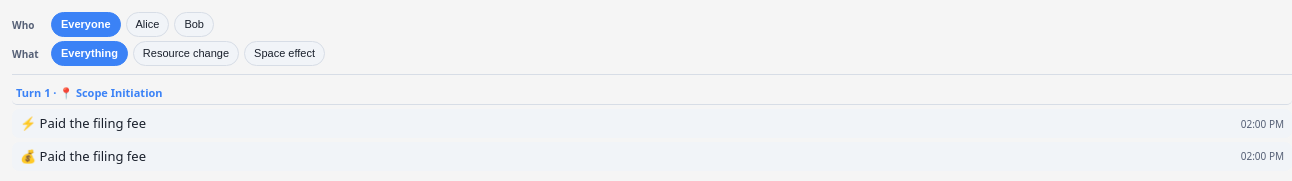
Scenario: HistoryFeed — empty state tells the truth › says nothing matches once the viewer narrows past the opening filters
Alice never had a resource change — this combination is genuinely empty.
Click the button "Alice" at x=147, y=25, box [126,12,169,37]
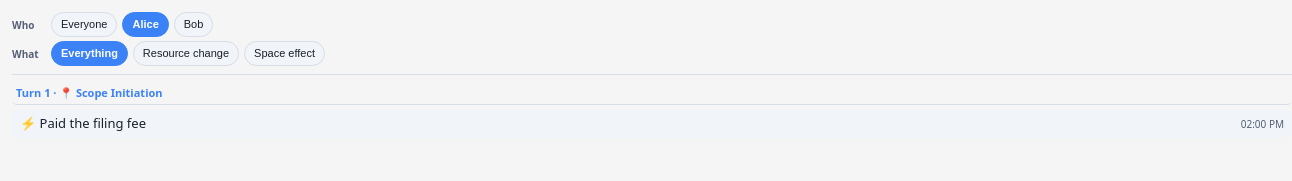
Click the button "Resource change" at x=186, y=54, box [133,41,239,66]
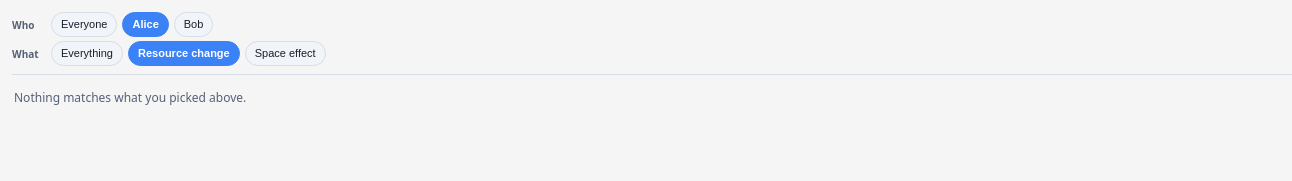
Expected: the text "Nothing matches what you picked above." is shown, [14,89,246,106]
